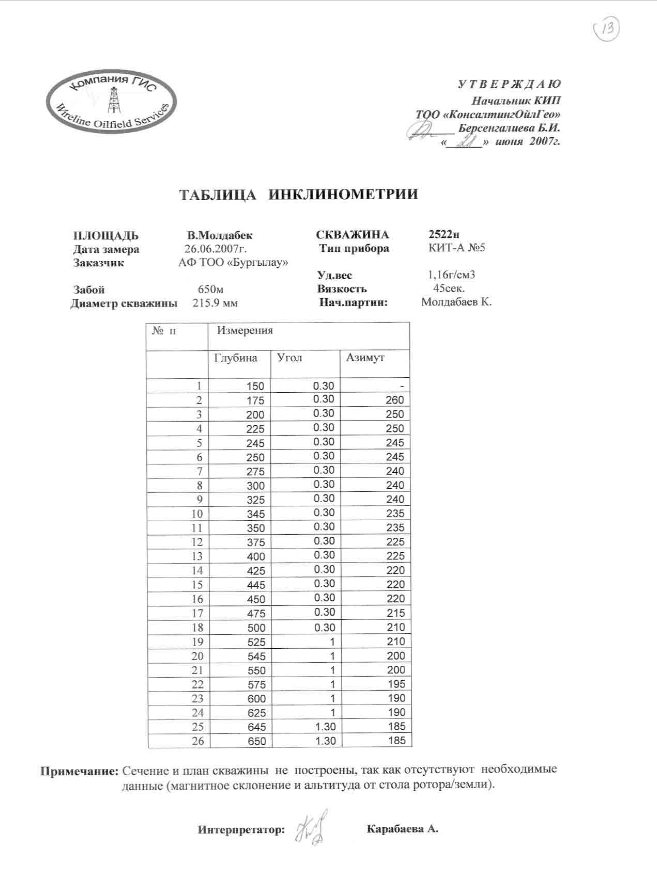Bordered: (145, 324, 411, 746)
